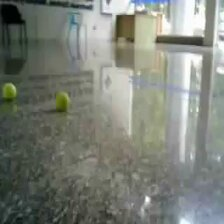tennis: (53, 91, 70, 109), (2, 81, 16, 99)
